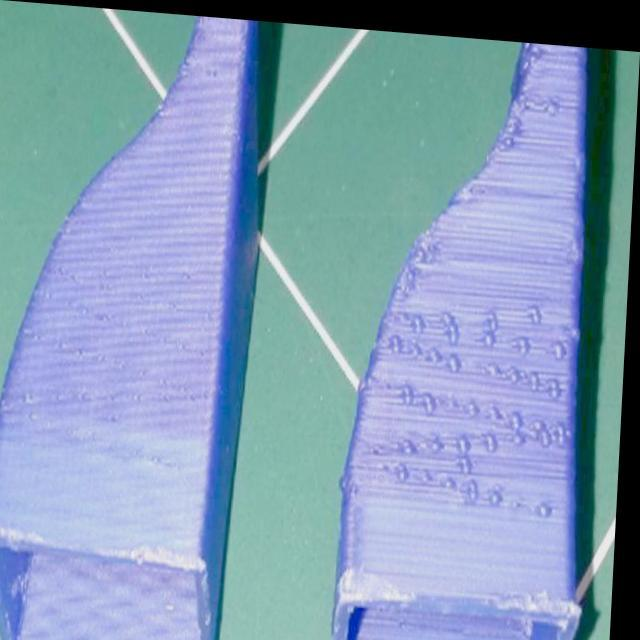zits: (492, 468, 512, 503), (472, 464, 489, 499), (484, 414, 502, 445), (404, 372, 421, 403), (550, 362, 565, 395), (422, 382, 439, 411), (463, 426, 480, 454), (510, 351, 526, 380), (554, 330, 574, 353), (430, 331, 447, 358), (469, 382, 485, 410), (410, 330, 427, 356), (439, 300, 458, 323), (544, 414, 558, 444), (513, 398, 529, 423), (516, 478, 530, 506), (532, 293, 548, 317), (558, 416, 574, 440), (422, 459, 438, 483), (520, 327, 535, 352), (488, 302, 505, 324), (393, 324, 410, 346), (488, 352, 506, 372), (400, 459, 418, 478), (534, 404, 549, 426), (450, 342, 466, 362), (446, 464, 462, 484), (434, 425, 449, 446), (416, 303, 429, 326), (485, 322, 499, 342), (544, 493, 556, 515), (465, 443, 478, 462), (532, 360, 544, 380), (437, 425, 448, 446)
